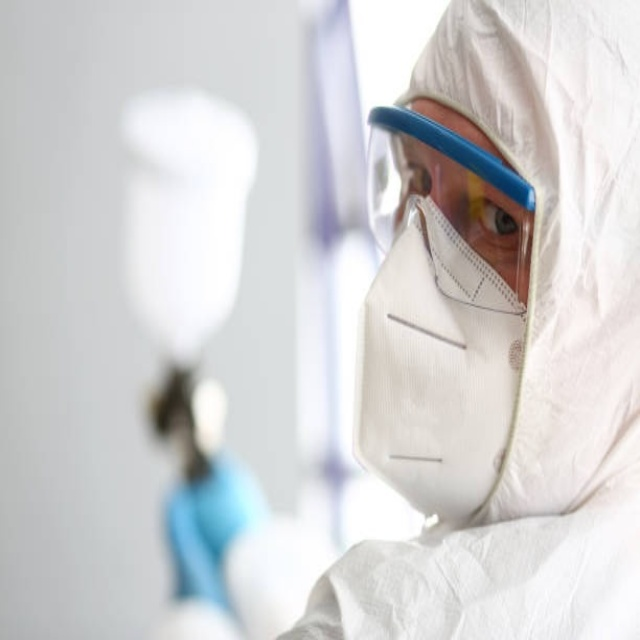Gafas: (367, 111, 537, 295)
Mascara: (352, 163, 534, 527)
